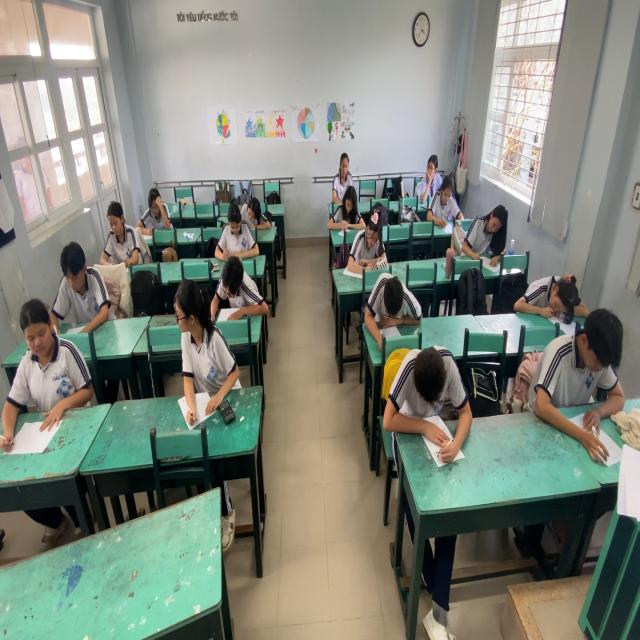cheating: (167, 270, 247, 422)
not_cheating: (532, 298, 627, 471), (381, 320, 472, 463), (6, 288, 81, 452), (48, 234, 109, 342), (510, 255, 589, 336), (356, 264, 422, 350), (211, 240, 266, 331), (454, 192, 510, 272), (96, 194, 142, 280), (344, 200, 388, 272), (217, 192, 258, 266), (134, 177, 178, 244), (425, 168, 467, 238), (233, 182, 273, 239), (413, 143, 447, 203), (328, 180, 364, 236), (326, 141, 358, 200)
